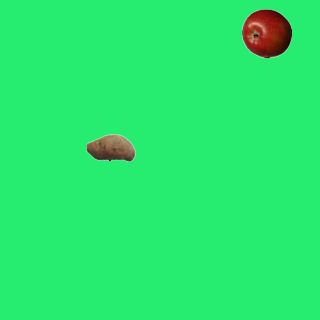Apple Braeburn: (241, 8, 291, 58)
Potato Sweet: (85, 122, 135, 172)
